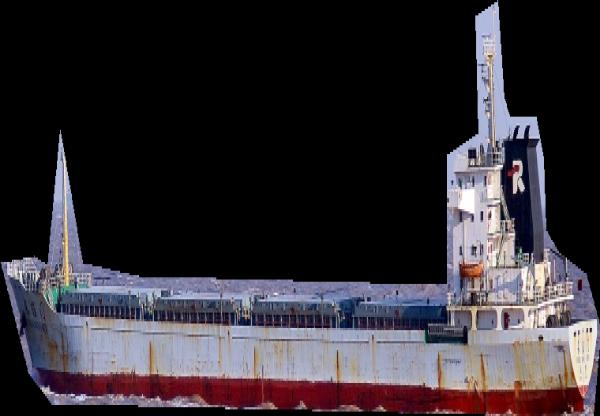Bulkers: (1, 1, 600, 416)
